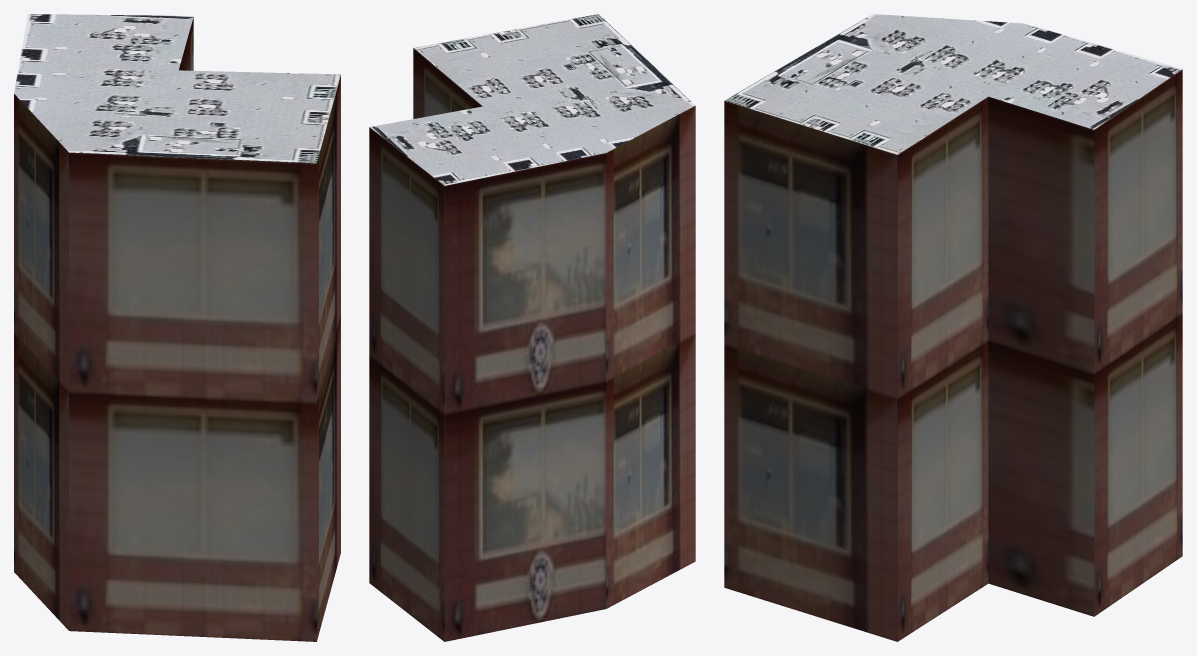
File: ResTex__3682.fbx
3 views of the same model, side by side, from view 1: azimuth 30°, elevation 25°; view 2: azimuth 150°, elevation 25°; view 3: azimuth 270°, elevation 25° (orthographic). The views are drawn at different scales.
Parts seen in each view (by area): view 1: CityEngineMaterial_13_m, CityEngineMaterial_8_m; view 2: CityEngineMaterial_13_m, CityEngineMaterial_8_m; view 3: CityEngineMaterial_13_m, CityEngineMaterial_8_m.
Part boxes in pixels (<box>): CityEngineMaterial_13_m: <box>14,17,340,641</box>; CityEngineMaterial_8_m: <box>14,14,340,163</box>; CityEngineMaterial_13_m: <box>369,48,695,641</box>; CityEngineMaterial_8_m: <box>370,14,694,185</box>; CityEngineMaterial_13_m: <box>724,69,1182,641</box>; CityEngineMaterial_8_m: <box>724,14,1182,154</box>.
Size of the model in its own units: 3.73 by 6 by 5.12.
2 materials, 2 textured.
